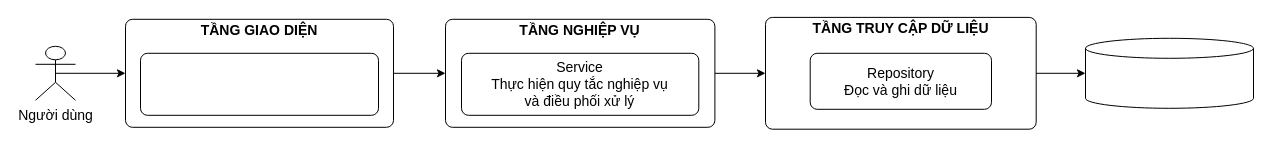
This 1271x147 diagram has some shape labels left out. The centre of each missing label's shape, as x and y in pixels:
"Controller Nhận yêu cầu từ giao diện web và trả kết quả" belongs at (x=259, y=83).
"PostgreSQL Lưu trữ dữ liệu hệ thống" belongs at (x=1169, y=72).
